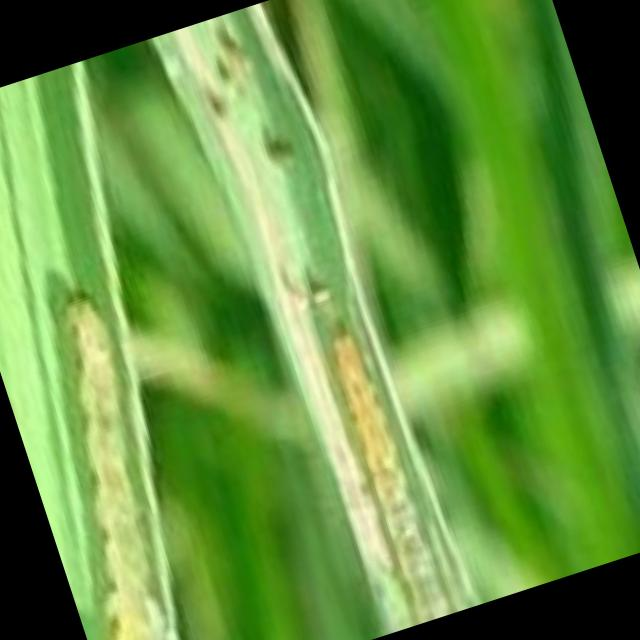leaf-folder: (0, 243, 266, 640), (294, 293, 493, 632)
